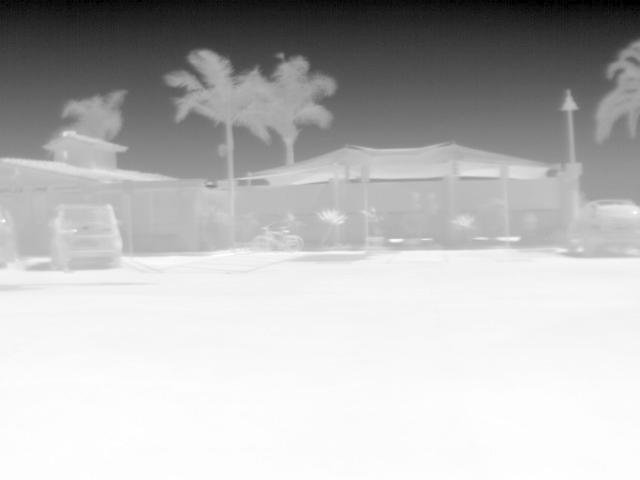car: (563, 196, 640, 257), (67, 201, 126, 267), (1, 205, 18, 268)
person: (50, 205, 78, 271)
